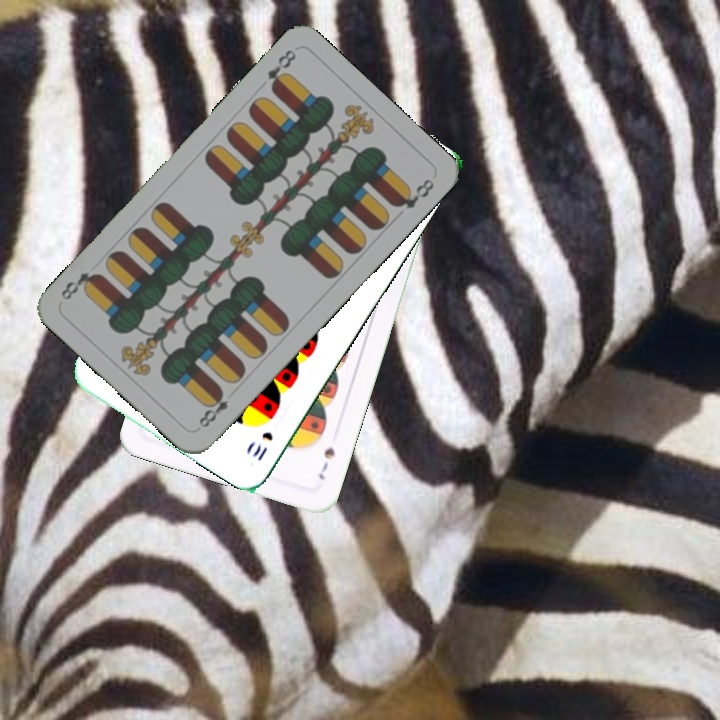E8: (263, 45, 299, 95), (195, 385, 232, 431)
S10: (248, 427, 276, 463)
S7: (314, 443, 338, 483)
